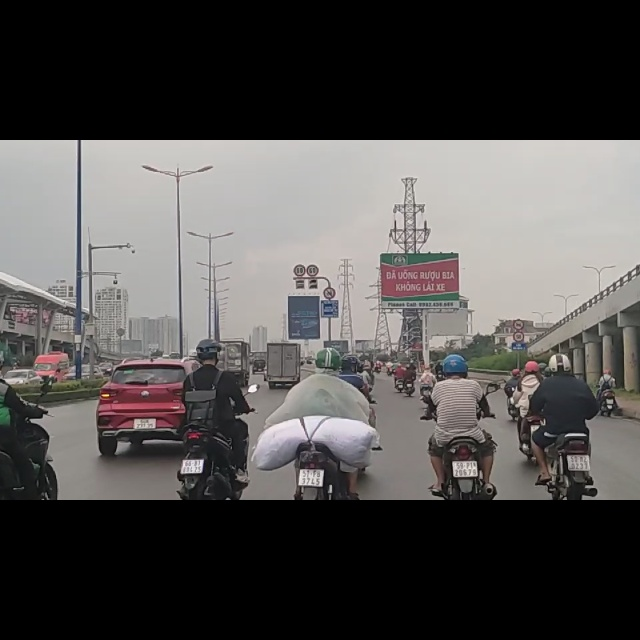Tốc độ tối đa cho phép 40km/h: (292, 264, 306, 276)
Tốc độ tối đa cho phép 60km/h: (307, 264, 320, 277)
